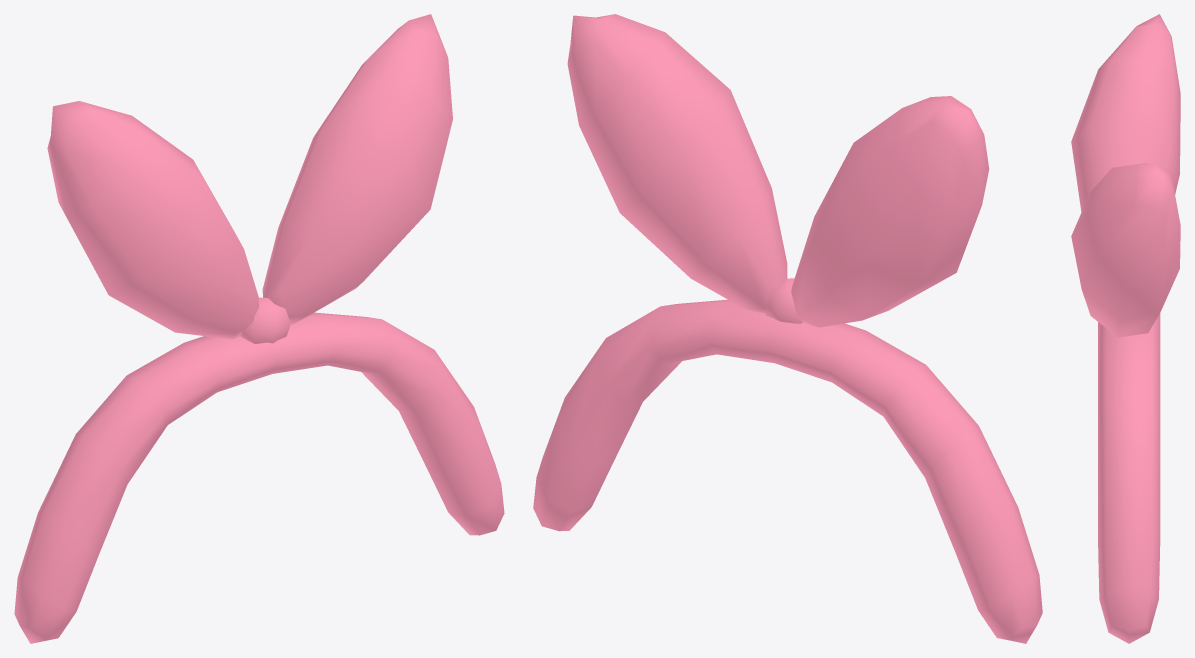
Rendered from accessory-bunnyheadband.glb.
The picture shows the model from 3 angles, left to right: view 1: azimuth 30°, elevation 25°; view 2: azimuth 150°, elevation 25°; view 3: azimuth 270°, elevation 25°; orthographic projection. The views are drawn at different scales.
Parts seen in each view (by area): view 1: accessory__headbow__0; view 2: accessory__headbow__0; view 3: accessory__headbow__0.
Part boxes in pixels (x1,y1,x2,y2): accessory__headbow__0: (14, 14, 504, 643); accessory__headbow__0: (533, 14, 1042, 643); accessory__headbow__0: (1071, 14, 1180, 643).
Bounding box in the file's own units: 0.7075 × 0.7278 × 0.1599.
